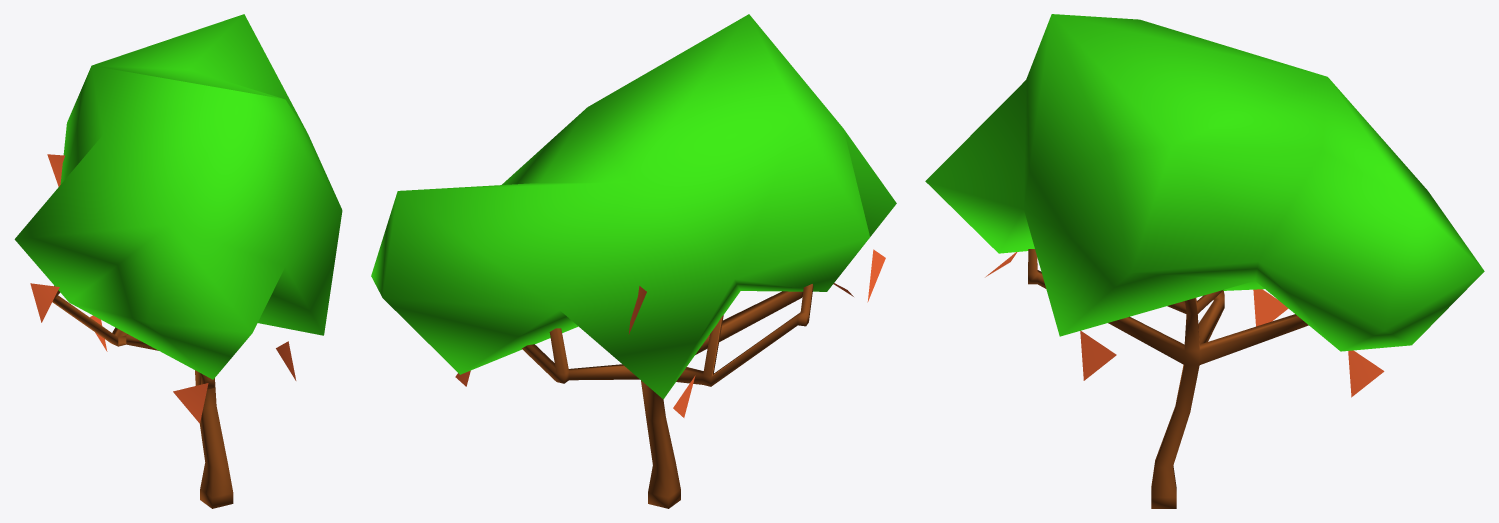
The model's file is SM_MangoTree_002_LOD4.fbx.
The picture shows the model from 3 angles, left to right: view 1: azimuth 30°, elevation 25°; view 2: azimuth 150°, elevation 25°; view 3: azimuth 270°, elevation 25°; orthographic projection. The views are drawn at different scales.
Parts seen in each view (by area): view 1: MangoTree_02; view 2: MangoTree_02; view 3: MangoTree_02.
Boxes of the visible parts, bbox=[...] form: MangoTree_02: bbox=[14, 14, 342, 508]; MangoTree_02: bbox=[371, 14, 896, 508]; MangoTree_02: bbox=[925, 14, 1484, 508].
Size of the model in its own units: 271 by 302 by 323.
